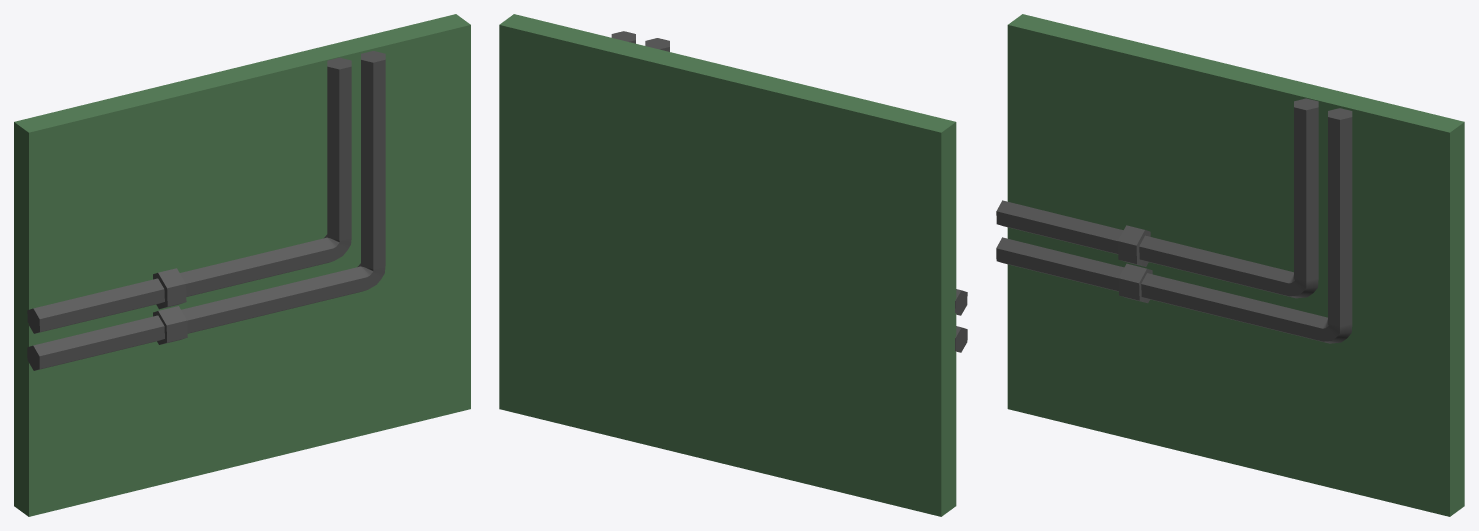
Rendered from Puerta6.fbx.
The picture shows the model from 3 angles, left to right: view 1: azimuth 30°, elevation 25°; view 2: azimuth 150°, elevation 25°; view 3: azimuth 330°, elevation 25°; orthographic projection.
Parts seen in each view (by area): view 1: pCylinder35; view 2: pCylinder35; view 3: pCylinder35.
Boxes of the visible parts, left/top/right/bottom form: pCylinder35: left=14, top=14, right=470, bottom=516; pCylinder35: left=499, top=14, right=967, bottom=516; pCylinder35: left=996, top=14, right=1464, bottom=516.
Bounding box in the file's own units: 20.04 × 16.62 × 2.28.
